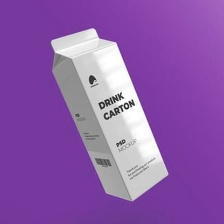carton: (48, 24, 172, 204)
